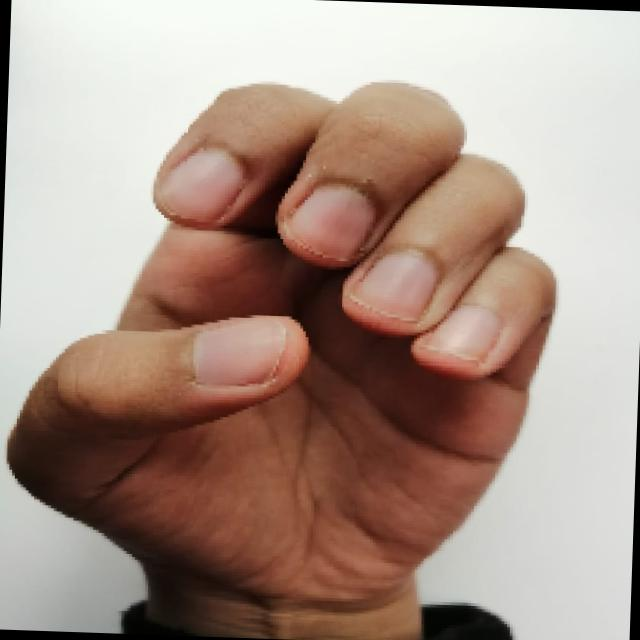Nail: (192, 315, 286, 385), (158, 148, 245, 222), (287, 186, 375, 259), (349, 250, 436, 321), (421, 307, 501, 363)
